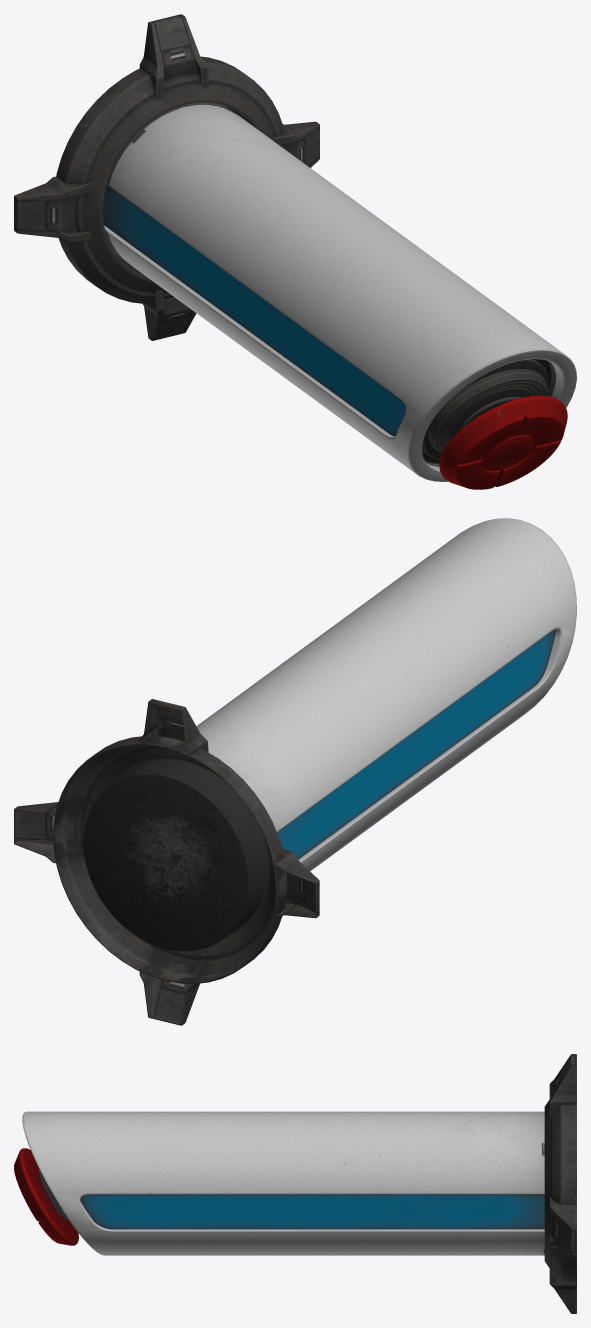
File: Fixture_Button_Standing_A1.obj
The picture shows the model from 3 angles, top to bottom: view 1: azimuth 30°, elevation 25°; view 2: azimuth 150°, elevation 25°; view 3: azimuth 270°, elevation 25°; orthographic projection. The views are drawn at different scales.
Parts seen in each view (by area): view 1: mesh0; view 2: mesh0; view 3: mesh0.
Boxes of the visible parts, x1,y1,x2,y2 form: mesh0: (14, 14, 576, 489); mesh0: (14, 518, 576, 1025); mesh0: (14, 1054, 576, 1313).
Bounding box in the file's own units: 22.64 × 22.64 × 46.75.
1 material, 1 textured.
